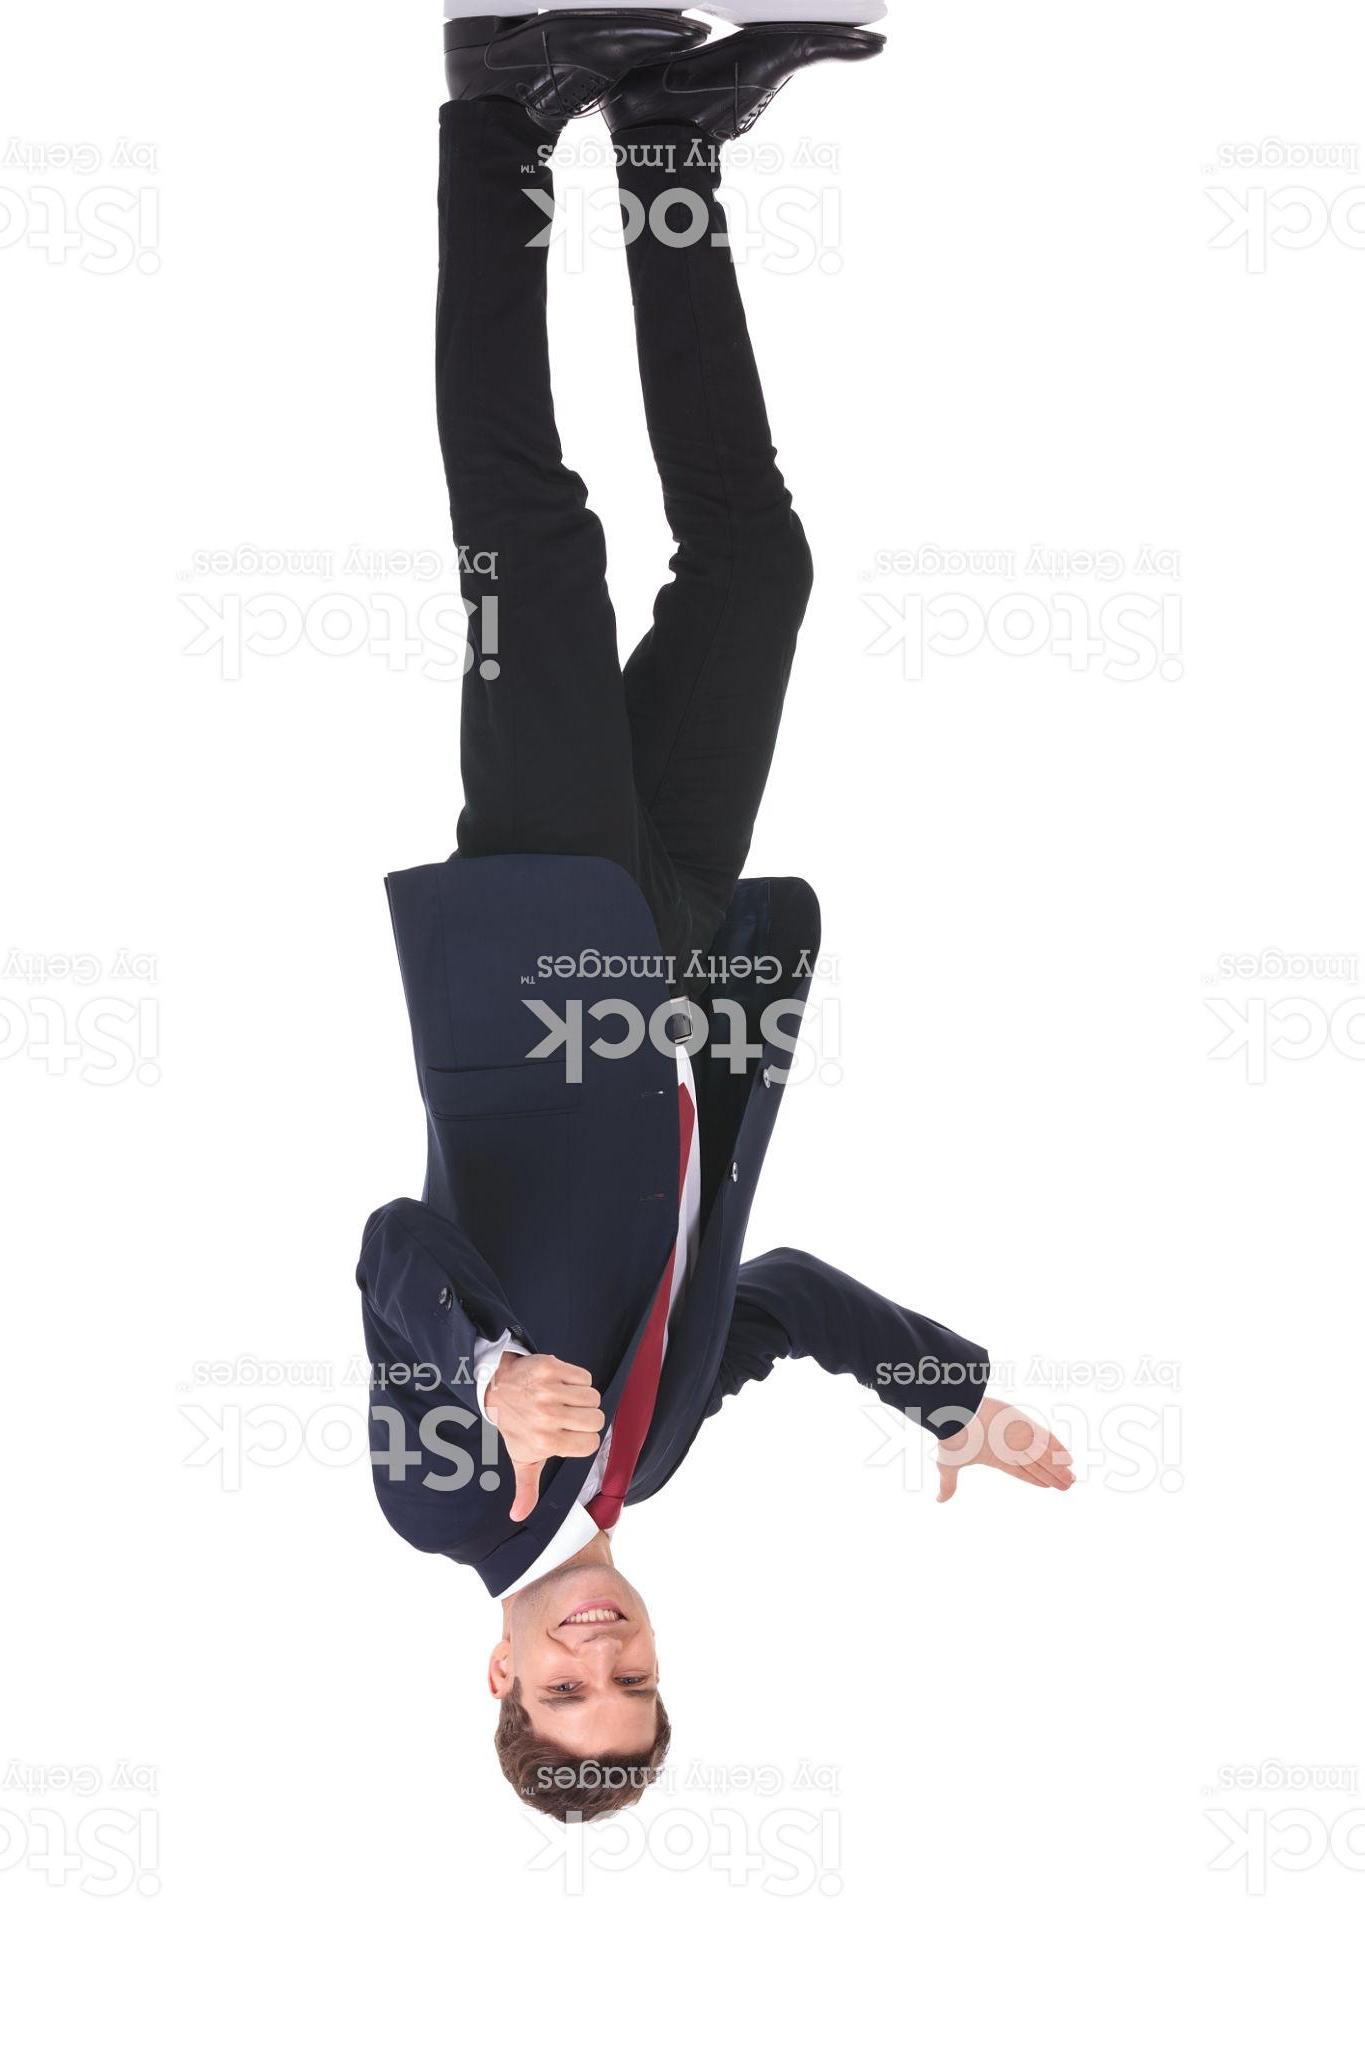thumbsdown: (504, 1354, 606, 1526)
